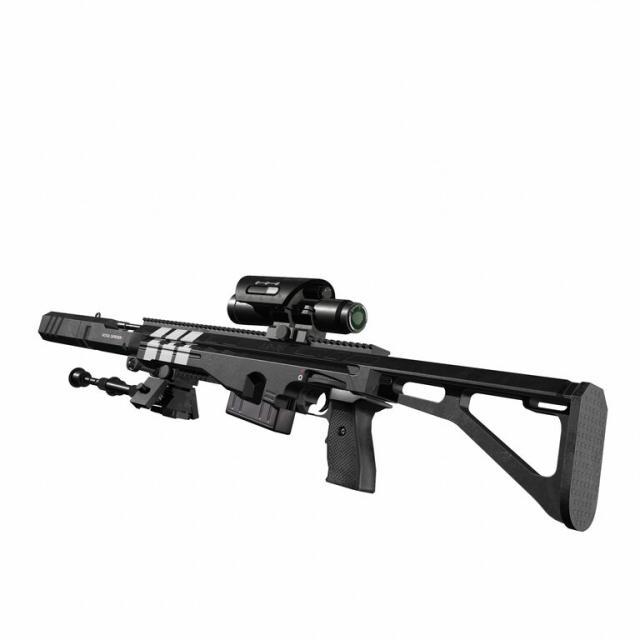Rifle: (38, 276, 608, 534)
